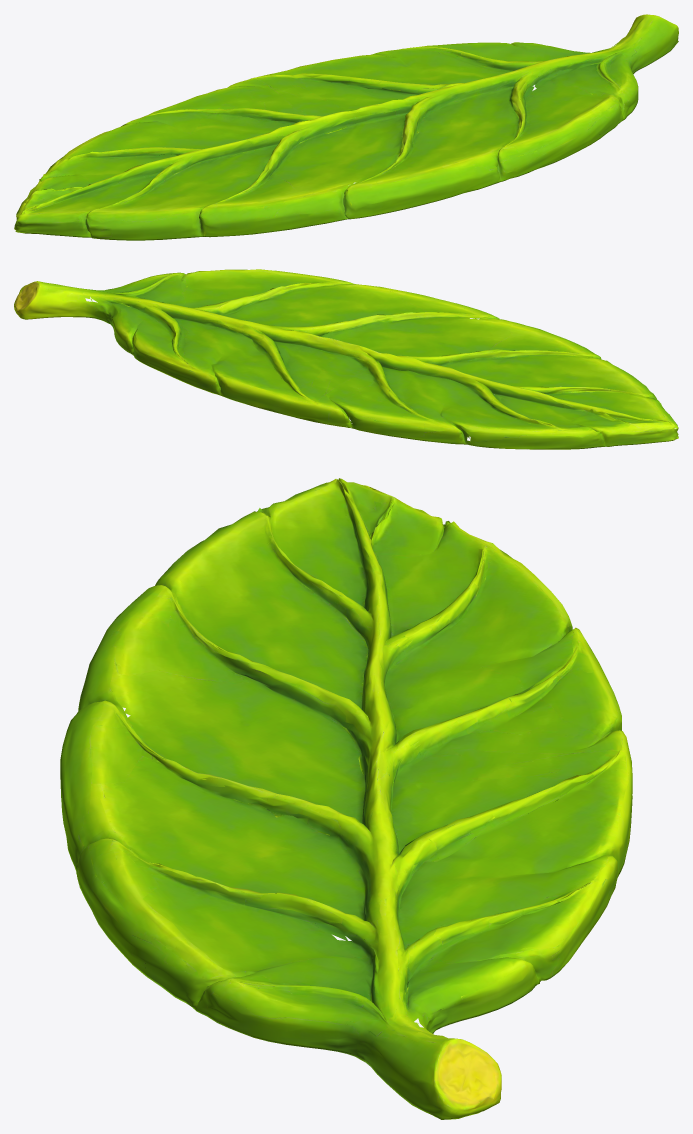
Rendered from leaf_fold.glb.
3 views of the same model, one above another, from view 1: azimuth 30°, elevation 25°; view 2: azimuth 150°, elevation 25°; view 3: azimuth 270°, elevation 25° (orthographic). The views are drawn at different scales.
Size of what is drawn, in the model's own units: 23.34 by 1 by 9.13.
1 material, 1 textured.
